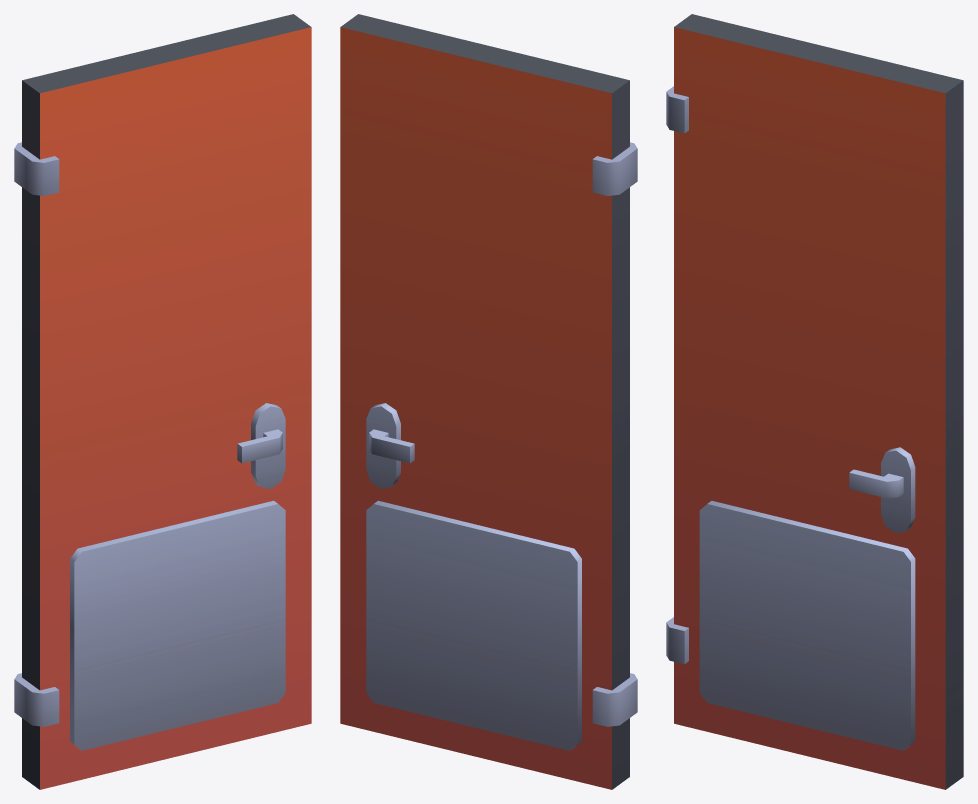
The model's file is entrance-door-red.glb.
3 renders of one model, left to right at view 1: azimuth 30°, elevation 25°; view 2: azimuth 150°, elevation 25°; view 3: azimuth 330°, elevation 25°, orthographic.
Visible parts, largest first — view 1: leaf; view 2: leaf; view 3: leaf.
Boxes of the visible parts, x1,y1,x2,y2 form: leaf: (14,14,311,789); leaf: (340,14,637,789); leaf: (666,14,963,789).
Bounding box in the file's own units: 0.8599 × 2.05 × 0.2382.
1 material, 1 textured.
